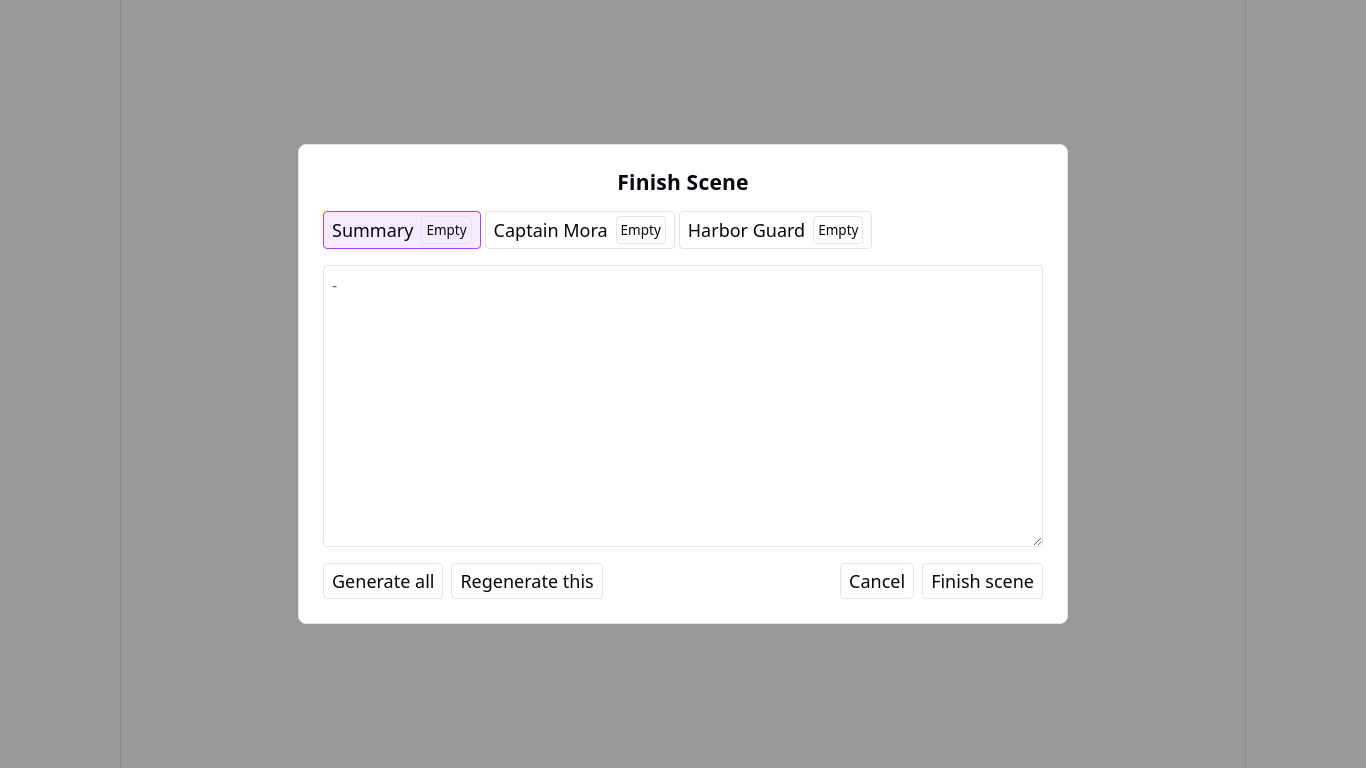
Test: CharacterFinishModal › Generate all fills every tab
Click the button "Generate all" at (383, 581), box [323,563,443,599]
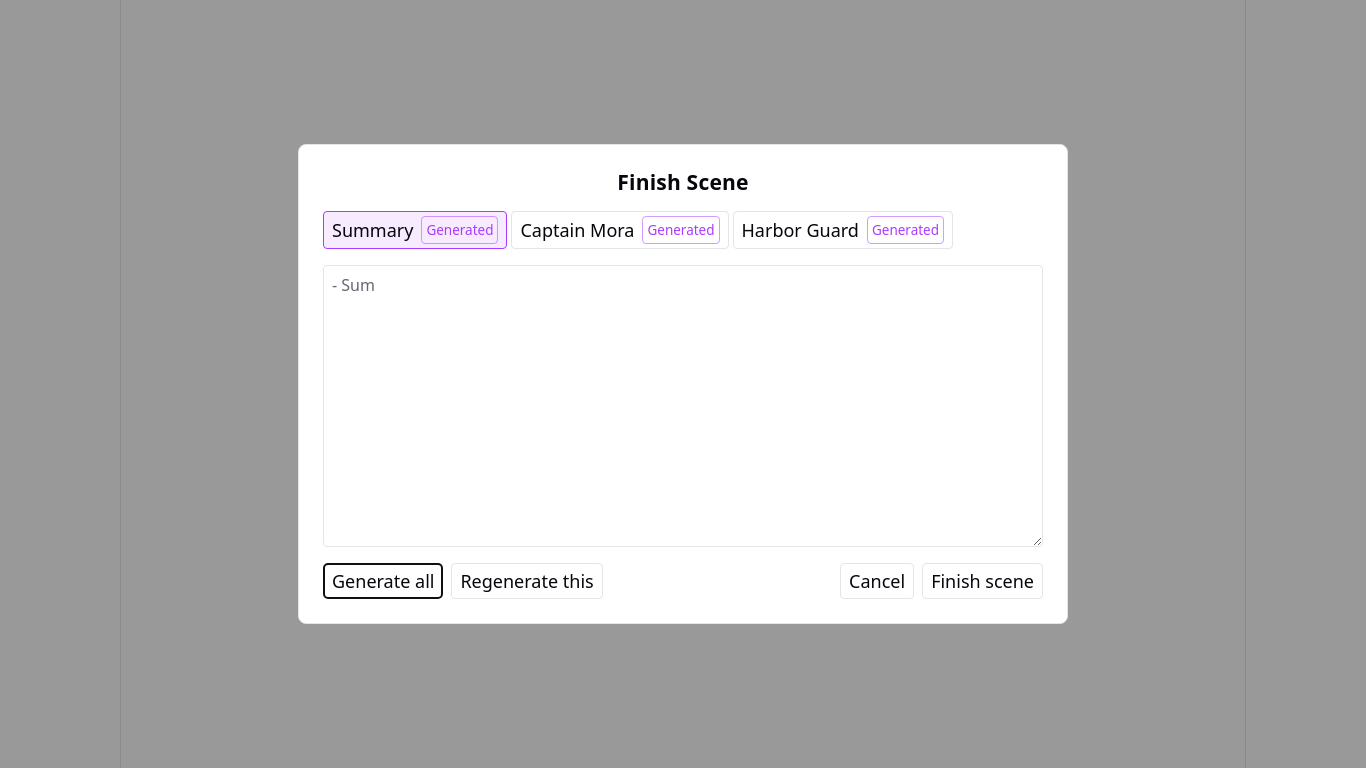
Check: the tab "Harbor Guard Generated" is shown, box [732,211,953,249]
Check: the text box holds "- Sum", box [323,265,1043,547]
